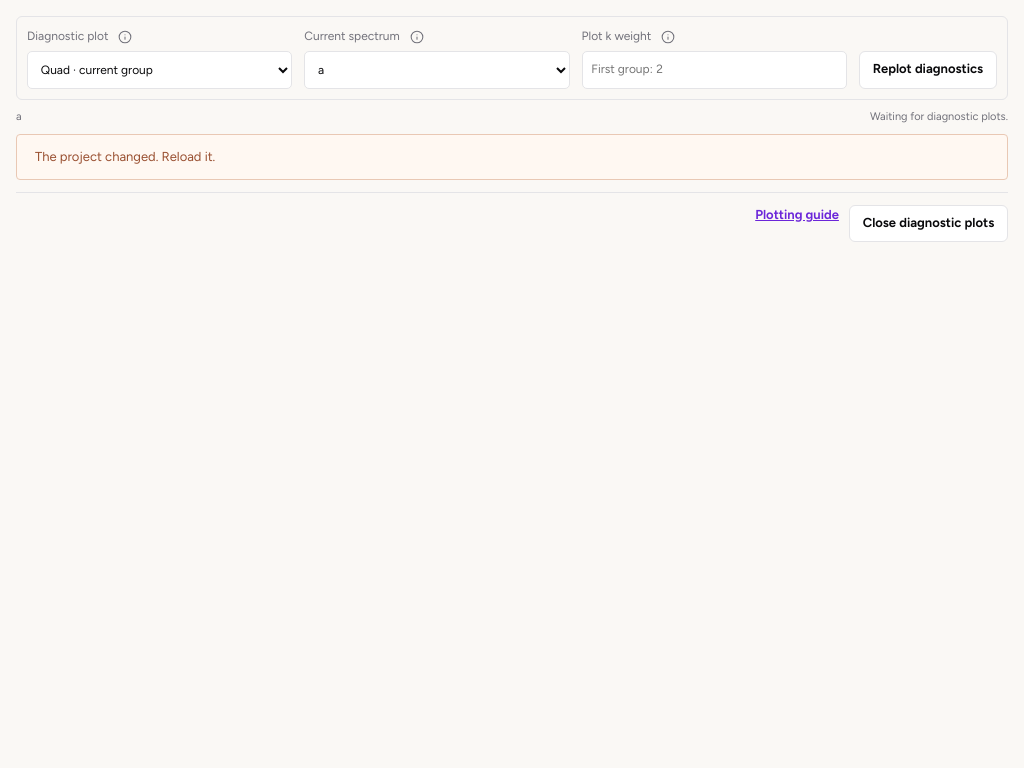
it: retries a failed request and makes range edits locally while rejecting invalid weights
The width and height of the screenshot is (1024, 768).
Check: the message "The project changed. Reload it." is shown, box [16,134,1008,180]
Click the button "Replot diagnostics": (928, 70) [859,51,997,89]
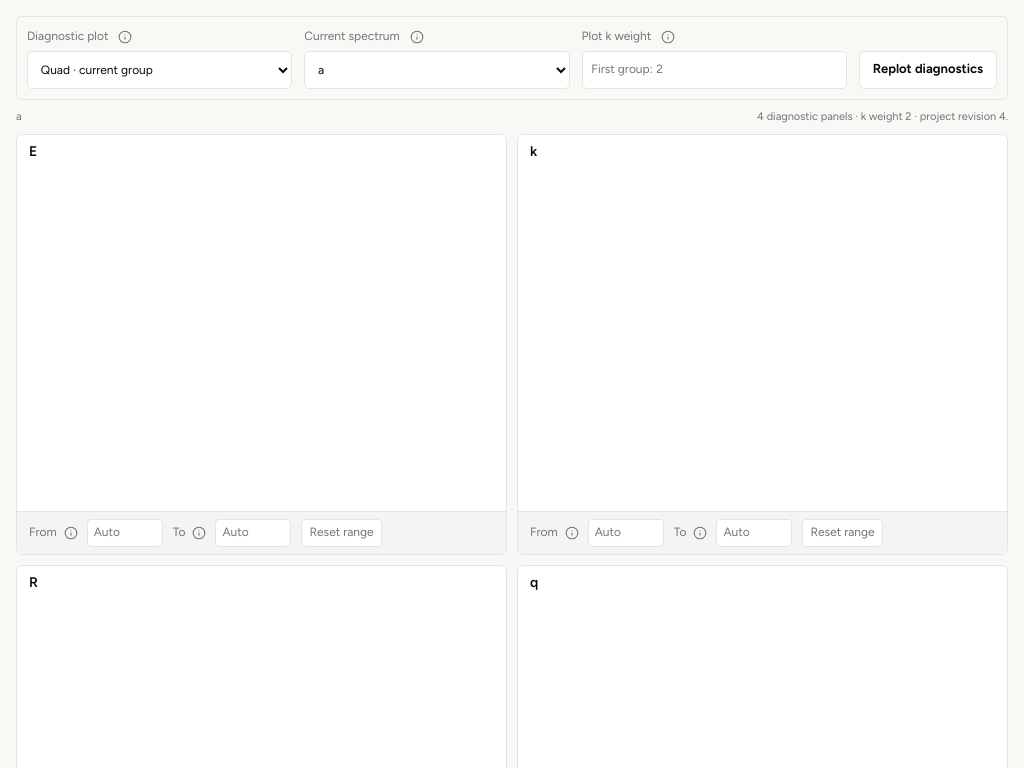
In the number field named "E plot minimum": (125, 533) [87,519,163,547], type "0"
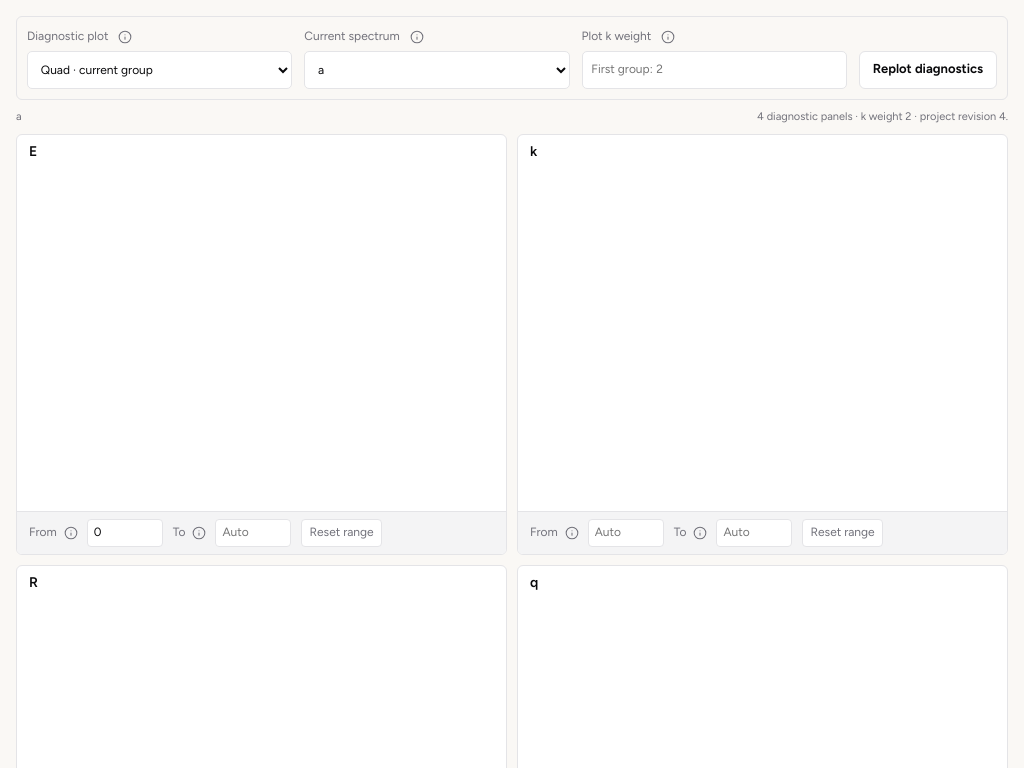
In the number field named "E plot maximum": (254, 533) [216,519,292,547], type "3"
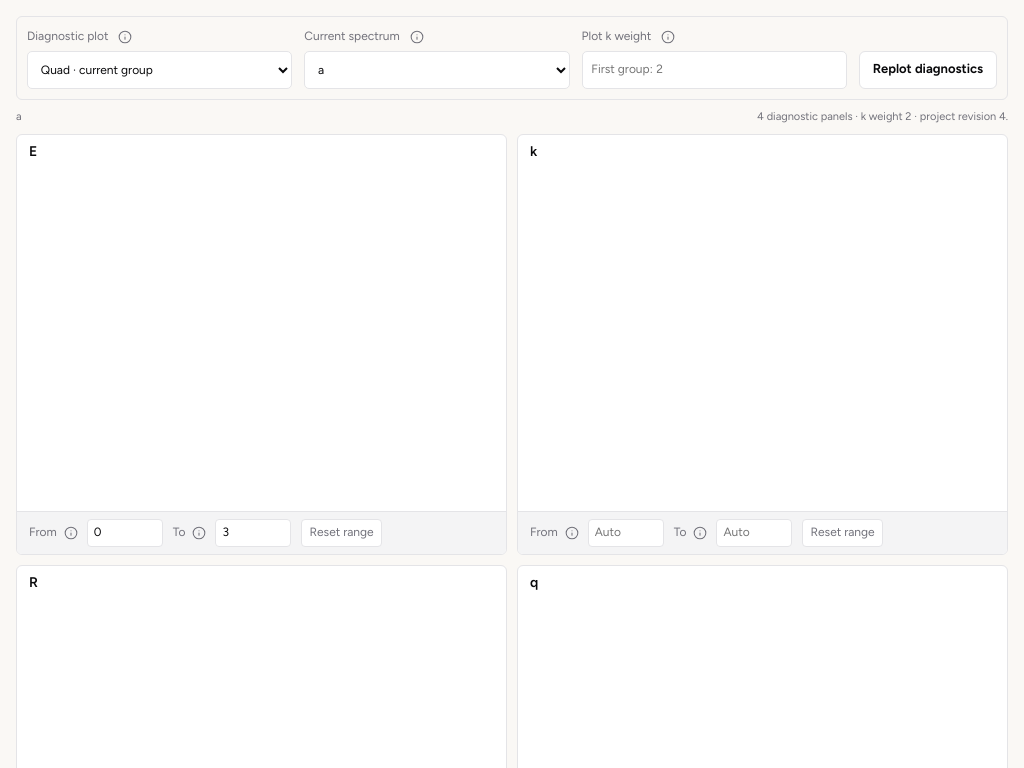
Replace the text in the number field named "E plot minimum" with "4": (125, 533) [87,519,163,547]
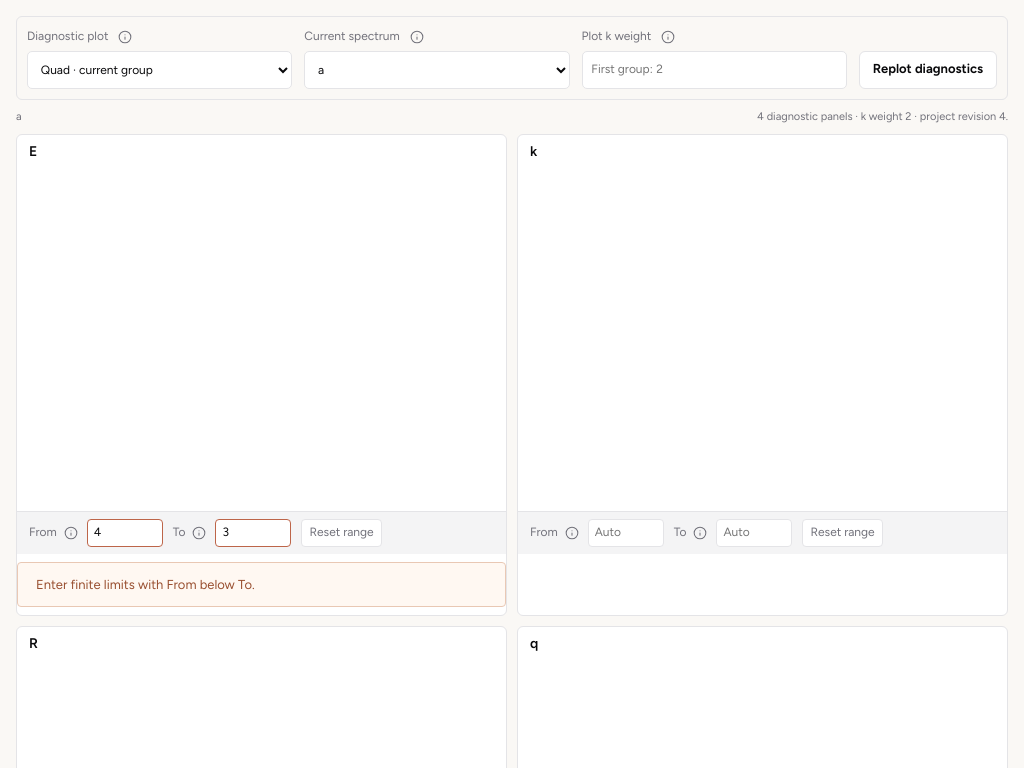
Check: the message "Enter finite limits with From below To." is shown, box [17,562,506,607]
In the number field named "Diagnostic k weight": (714, 70) [582,51,847,89], type "-1"
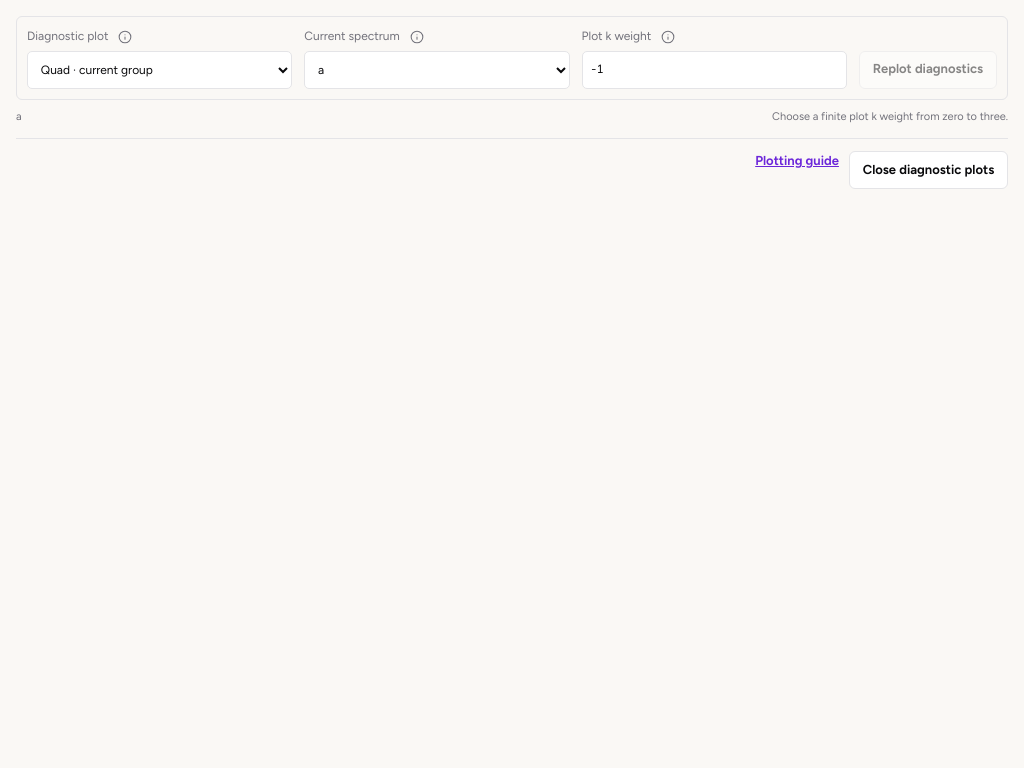
Check: the button "Replot diagnostics" is disabled, box [859,51,997,89]
